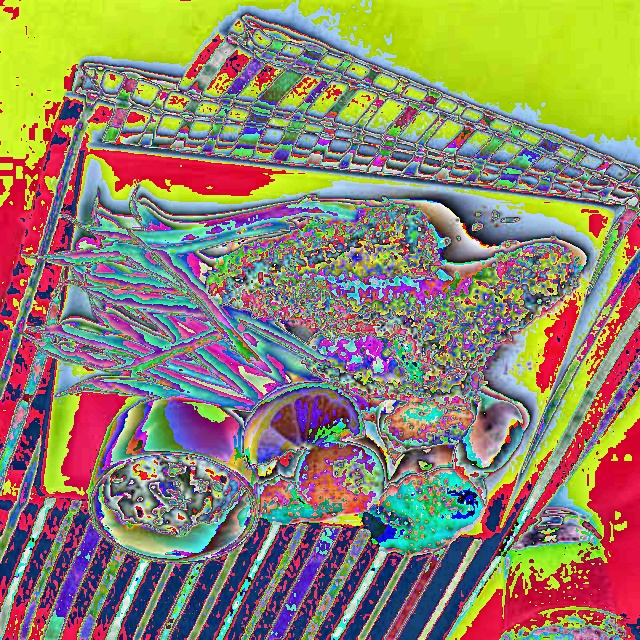background: (20, 178, 582, 553), (101, 82, 243, 534)
